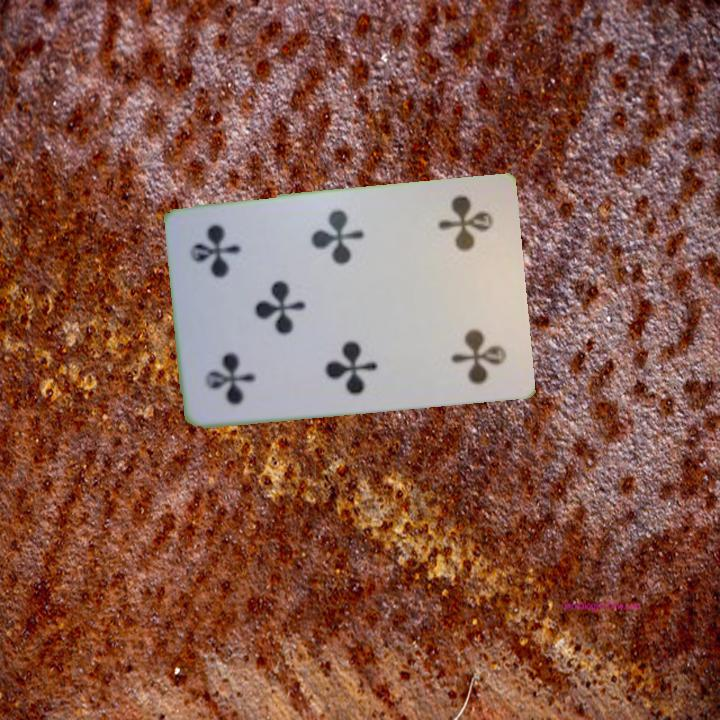c_7.png: (189, 305, 284, 412), (415, 189, 510, 296)
